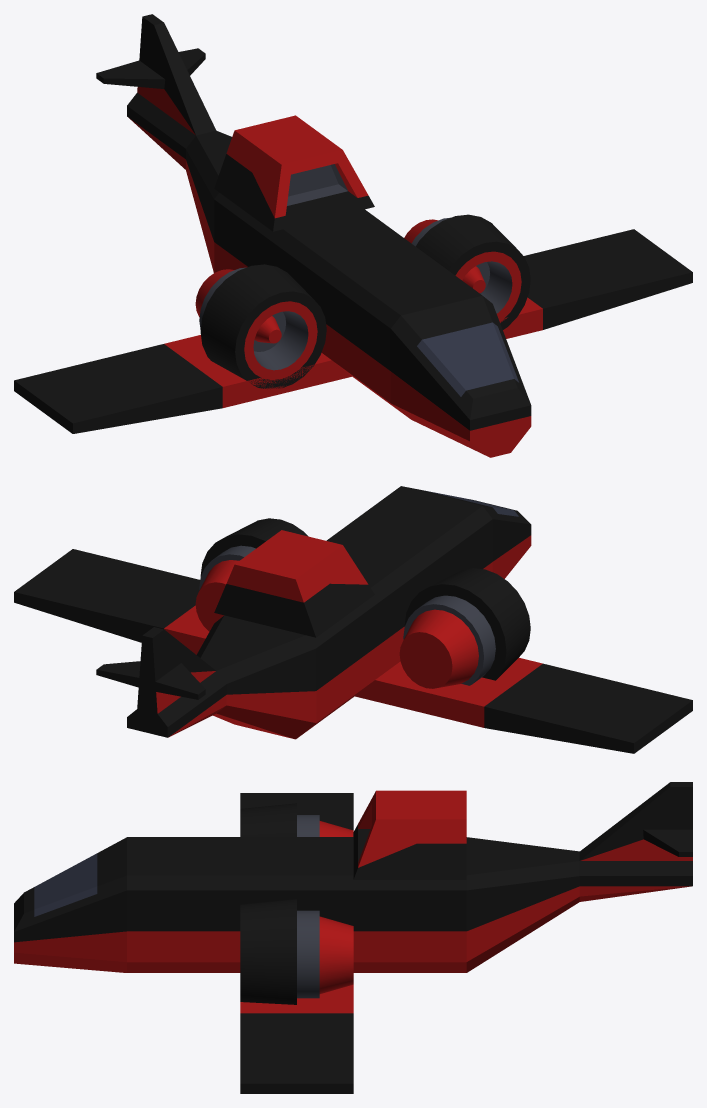
File: baseplane.fbx
The picture shows the model from 3 angles, top to bottom: view 1: azimuth 30°, elevation 25°; view 2: azimuth 150°, elevation 25°; view 3: azimuth 270°, elevation 25°; orthographic projection. The views are drawn at different scales.
Parts seen in each view (by area): view 1: mergedBlocks; view 2: mergedBlocks; view 3: mergedBlocks.
Part boxes in pixels (box(x1,y1,x2,y2)): mergedBlocks: box(14, 14, 692, 457); mergedBlocks: box(14, 486, 692, 753); mergedBlocks: box(14, 782, 692, 1093).
Bounding box in the file's own units: 60.8 × 17 × 60.
